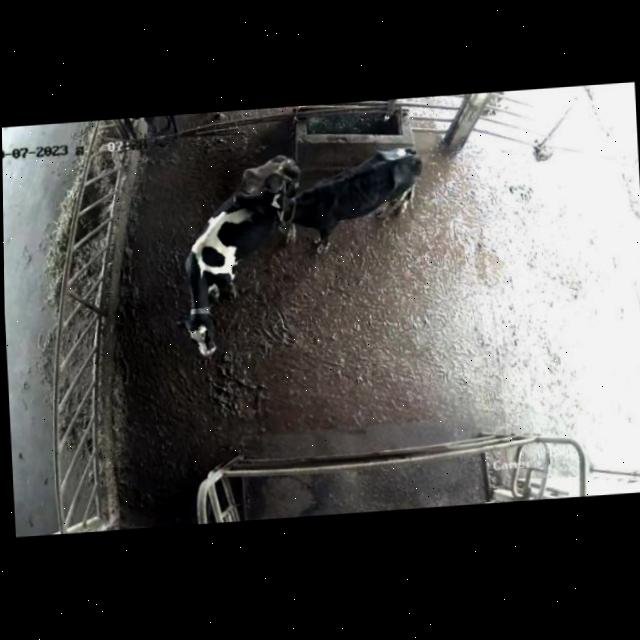propping: (207, 175, 325, 246)
stand: (162, 143, 312, 370)
